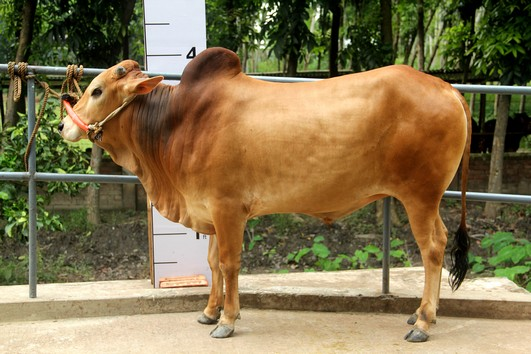cow: (56, 41, 475, 343)
